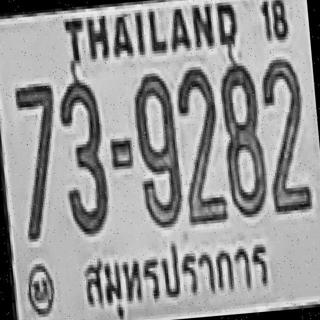N02: (258, 56, 312, 214), (174, 64, 225, 221), (258, 55, 310, 201), (173, 65, 224, 208)
N03: (55, 76, 110, 236)
N07: (12, 81, 65, 241), (14, 81, 61, 190)
N08: (216, 59, 267, 216)
N09: (131, 69, 184, 229)
P57: (73, 236, 277, 320)
